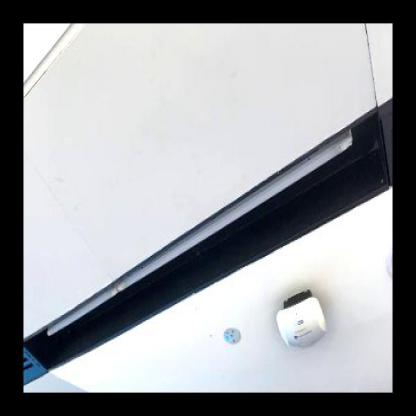light_off: (44, 118, 358, 348)
